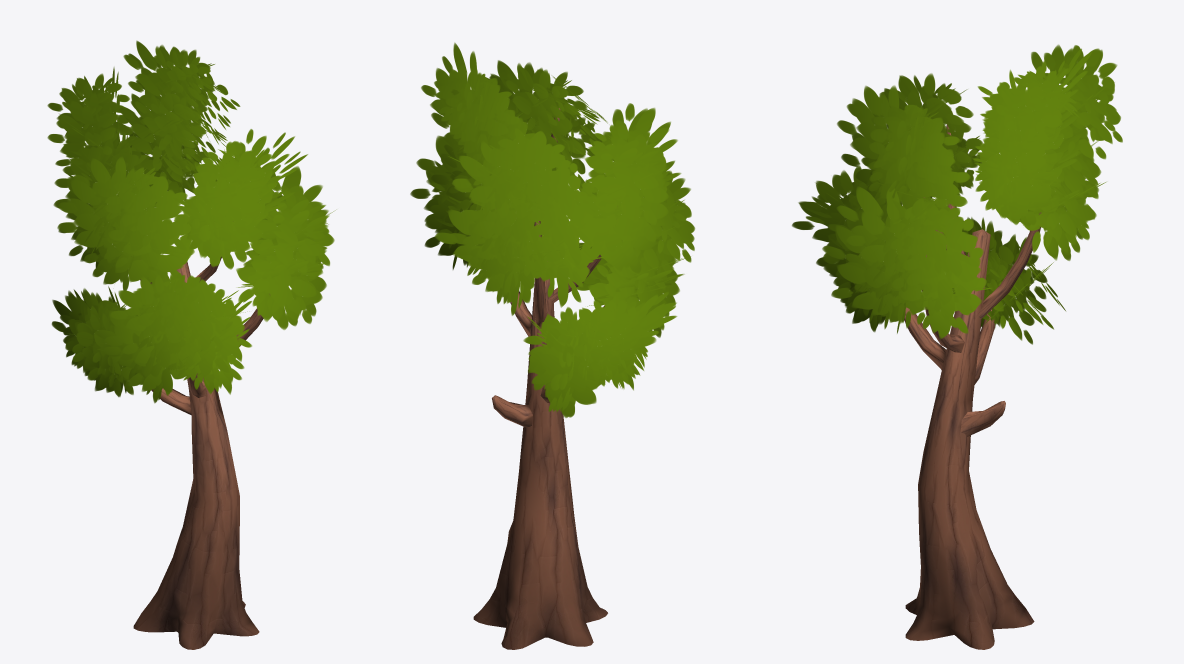
Rendered from tree-5.glb.
3 renders of one model, left to right at view 1: azimuth 30°, elevation 25°; view 2: azimuth 150°, elevation 25°; view 3: azimuth 270°, elevation 25°, orthographic. The views are drawn at different scales.
Visible parts, largest first — view 1: CommonTree_5; view 2: CommonTree_5; view 3: CommonTree_5.
Part boxes in pixels (<box>): CommonTree_5: <box>47,40,335,649</box>; CommonTree_5: <box>410,42,694,649</box>; CommonTree_5: <box>792,44,1122,649</box>.
Bounding box in the file's own units: 3.67 × 7.01 × 4.22.
Materials: 2 (2 with a texture image).
